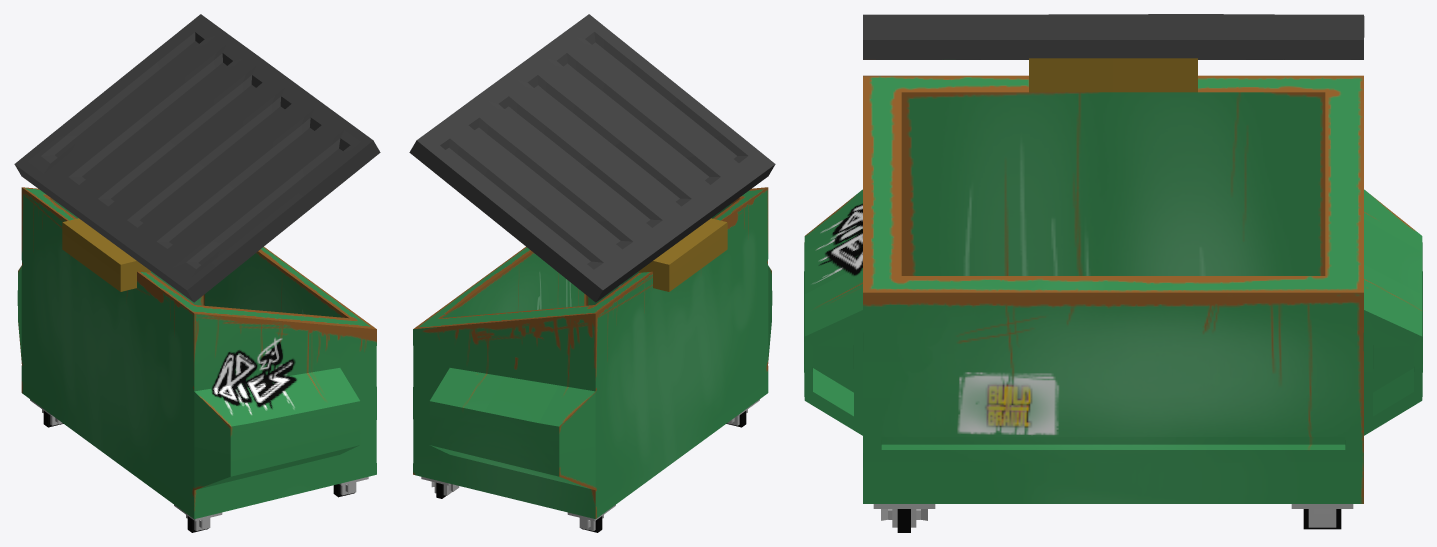
File: OpenDumpster.fbx
3 renders of one model, left to right at view 1: azimuth 30°, elevation 25°; view 2: azimuth 150°, elevation 25°; view 3: azimuth 270°, elevation 25°, orthographic. The views are drawn at different scales.
Visible parts, largest first — view 1: OpenDumpster:polySurface2; view 2: OpenDumpster:polySurface2; view 3: OpenDumpster:polySurface2.
Part boxes in pixels (x1,y1,x2,y2): OpenDumpster:polySurface2: [14, 14, 380, 532]; OpenDumpster:polySurface2: [409, 14, 775, 532]; OpenDumpster:polySurface2: [804, 14, 1422, 532].
Bounding box in the file's own units: 461 × 782 × 838.
1 material, 1 textured.
